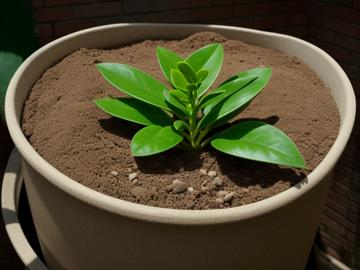pottedplant: (4, 22, 357, 270)
